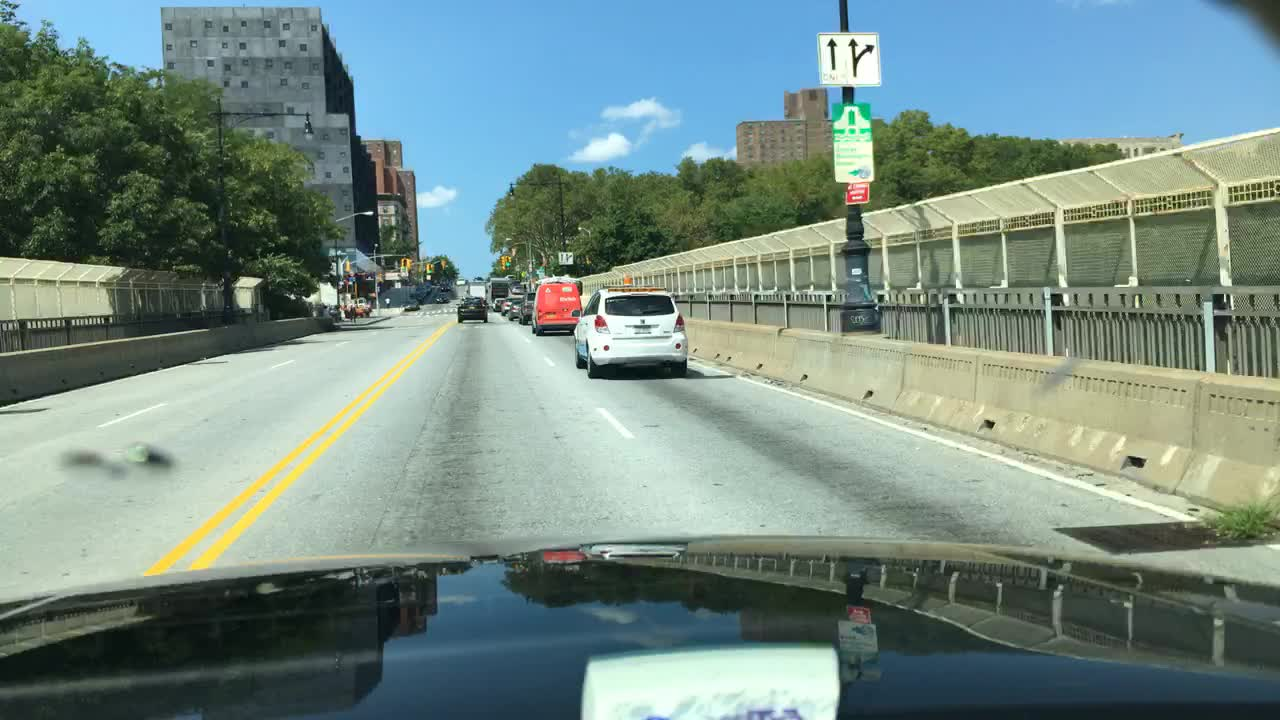car: (573, 283, 688, 379), (533, 275, 582, 334), (453, 293, 489, 322), (519, 293, 538, 325), (506, 300, 523, 322), (344, 302, 364, 318), (403, 300, 421, 315), (433, 293, 450, 307), (356, 296, 371, 310), (492, 298, 506, 313), (413, 283, 426, 296), (511, 283, 524, 296), (499, 302, 512, 315), (453, 276, 465, 290), (437, 281, 452, 291), (410, 293, 425, 303), (421, 281, 431, 295), (504, 273, 518, 283)
person: (345, 300, 357, 325), (383, 295, 391, 308)
traffic light: (404, 258, 415, 273), (499, 256, 511, 269), (425, 261, 435, 276), (342, 258, 350, 275), (399, 256, 406, 272), (441, 258, 447, 275)
traffic sign: (833, 102, 872, 182), (820, 37, 879, 84), (842, 182, 872, 204), (558, 251, 572, 264)
truck: (487, 278, 507, 298), (467, 280, 485, 302)
